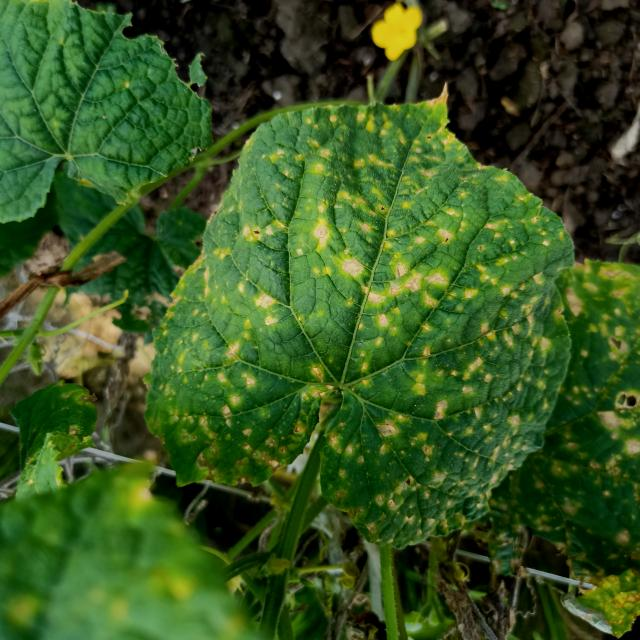disease_cucumber: (154, 106, 565, 544), (498, 257, 640, 598)
